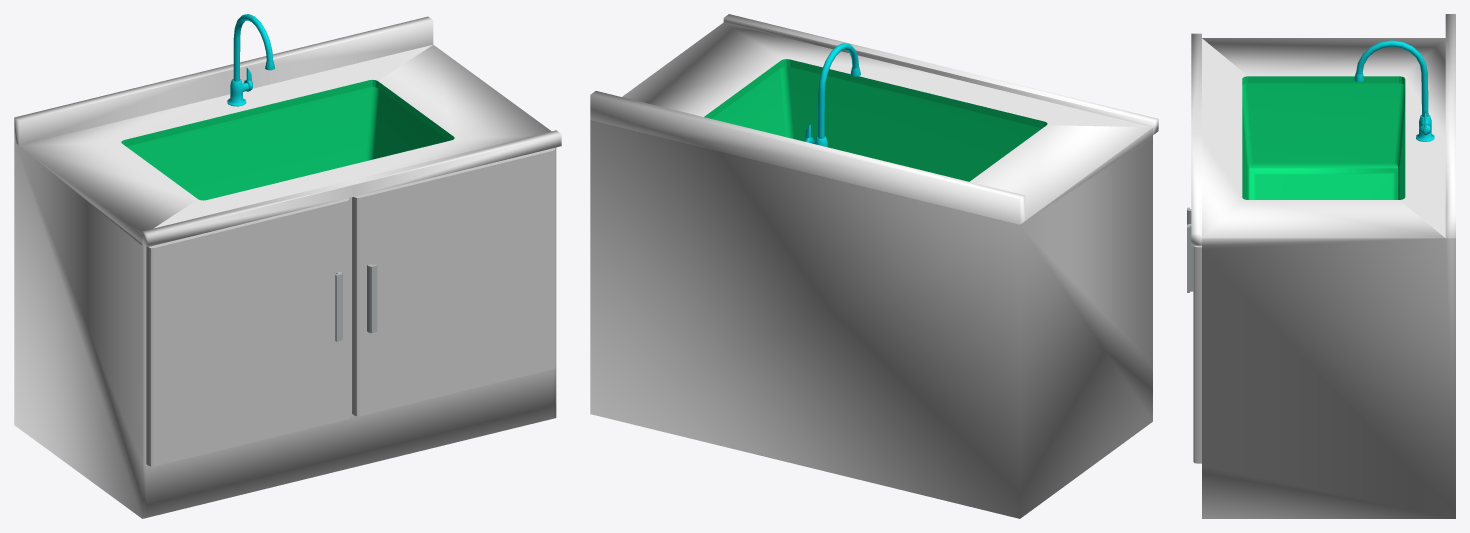
The model's file is Sink.glb.
3 renders of one model, left to right at view 1: azimuth 30°, elevation 25°; view 2: azimuth 150°, elevation 25°; view 3: azimuth 270°, elevation 25°, orthographic. The views are drawn at different scales.
Parts seen in each view (by area): view 1: Sink; view 2: Sink; view 3: Sink.
Boxes of the visible parts, x1,y1,x2,y2 form: Sink: [14, 14, 561, 518]; Sink: [590, 14, 1158, 518]; Sink: [1187, 14, 1455, 518].
Bounding box in the file's own units: 0.0809 × 0.0713 × 0.046.
